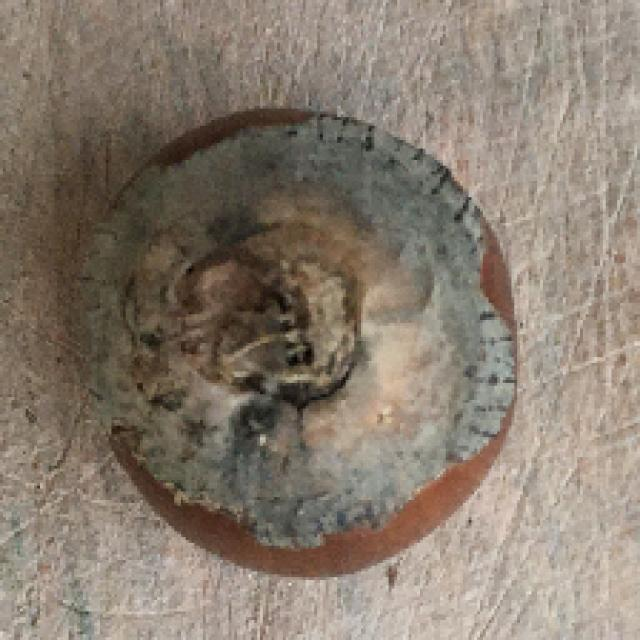damagedHazelnut: (62, 99, 524, 573)
